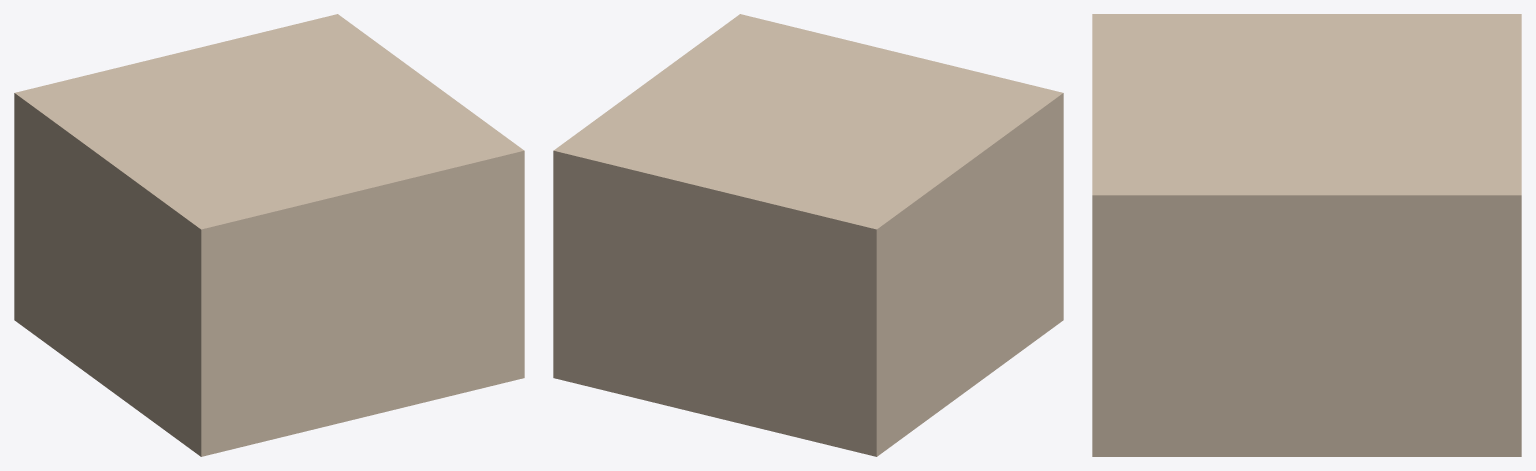
Rendered from sora-boucle-ottoman.glb.
The picture shows the model from 3 angles, left to right: view 1: azimuth 30°, elevation 25°; view 2: azimuth 150°, elevation 25°; view 3: azimuth 270°, elevation 25°; orthographic projection. The views are drawn at different scales.
Visible parts, largest first — view 1: sora-boucle-ottoman-placeholder; view 2: sora-boucle-ottoman-placeholder; view 3: sora-boucle-ottoman-placeholder.
Part boxes in pixels (bbox=[...]): sora-boucle-ottoman-placeholder: bbox=[14, 14, 524, 456]; sora-boucle-ottoman-placeholder: bbox=[553, 14, 1063, 456]; sora-boucle-ottoman-placeholder: bbox=[1092, 14, 1521, 456].
Bounding box in the file's own units: 0.61 × 0.41 × 0.61.
